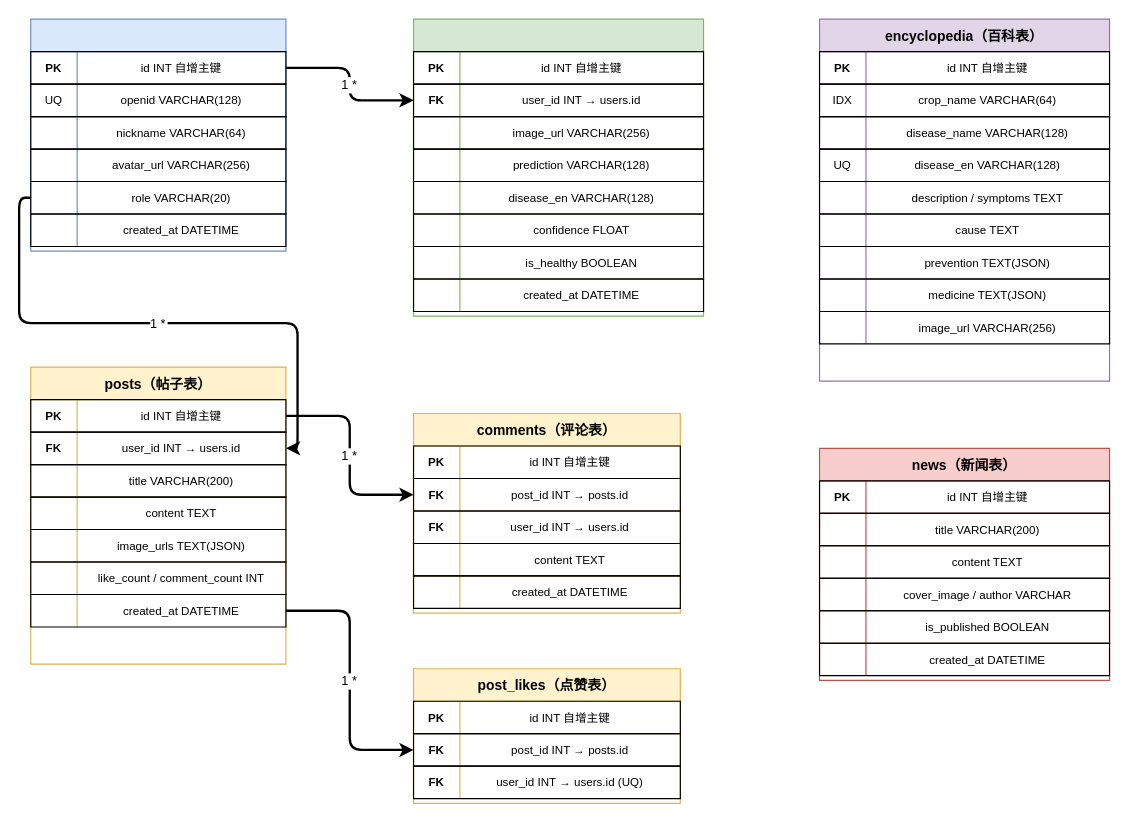
Image size: 1129x822. Some labels were removed from this diagram. The shapes that lost their labels are listed below. From the top down, each one's box as (x1, y1, x2, y2) in pixels, then its label:
(30, 18, 286, 251): users（用户表）
(412, 18, 704, 316): recognition_history（识别历史表）
